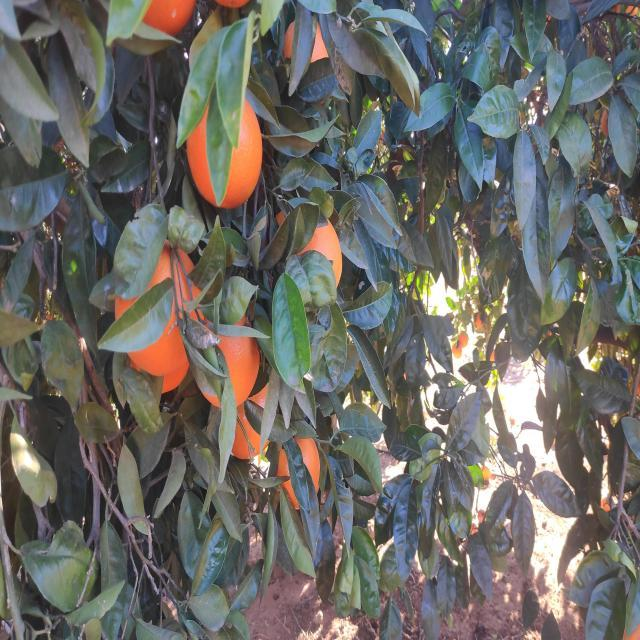Jeruk Sudah Matang: (115, 237, 199, 373), (186, 90, 264, 205), (194, 282, 258, 408), (274, 202, 344, 290), (230, 370, 278, 460), (277, 436, 323, 510), (285, 18, 331, 59), (142, 0, 194, 35), (153, 366, 188, 392)
